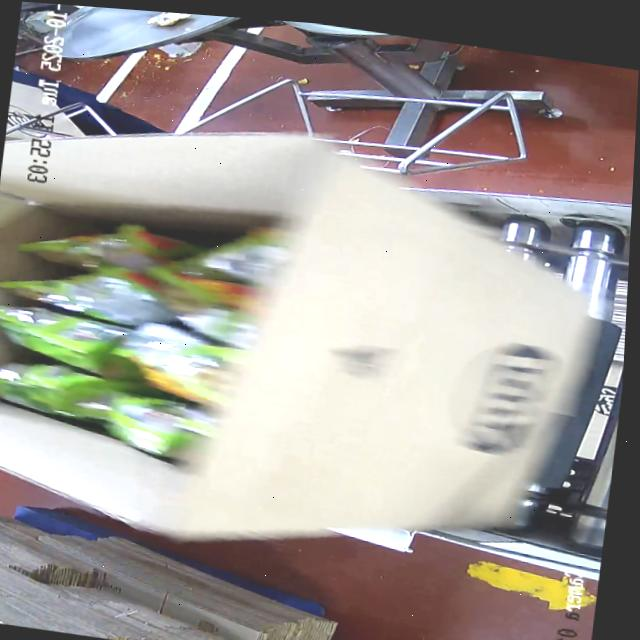YOGURT_HERB: (0, 177, 288, 470)
